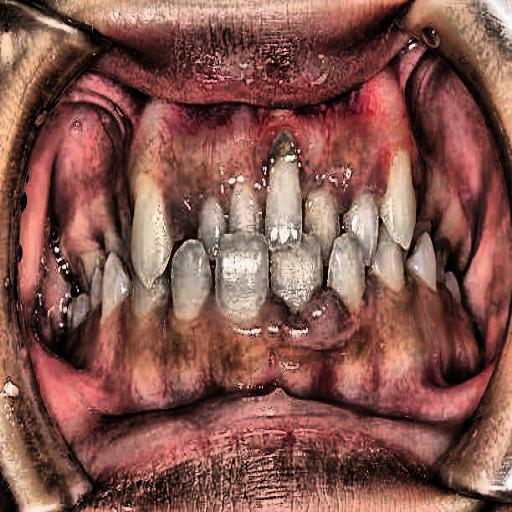Gingivitis: (90, 301, 468, 421), (49, 96, 475, 196)
